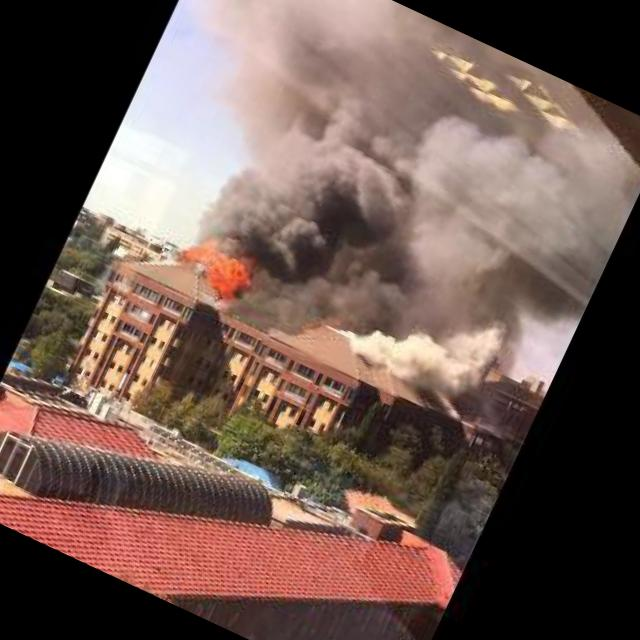fire: (156, 221, 266, 317)
smoke: (171, 63, 576, 402)
